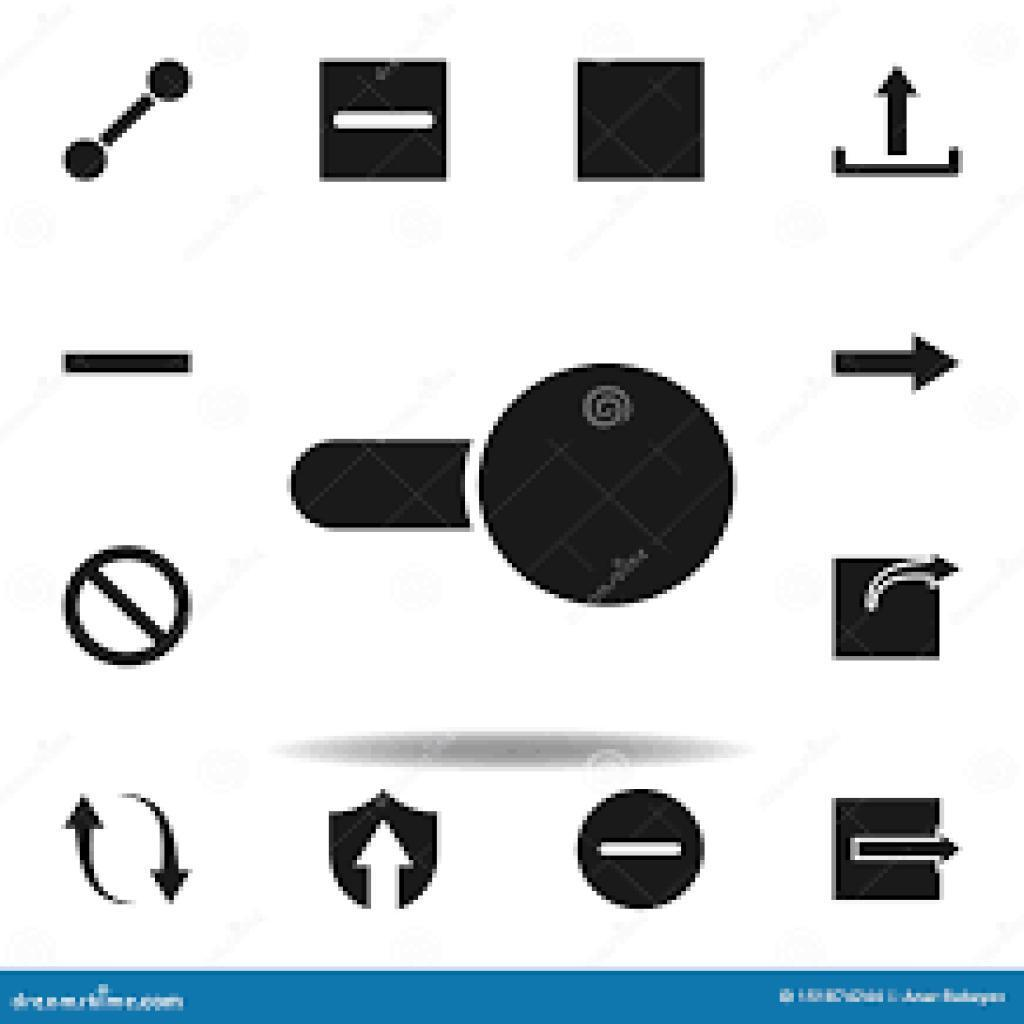checkbox: (572, 54, 711, 187), (317, 55, 452, 188)
icon: (46, 535, 215, 689), (46, 53, 204, 193), (320, 778, 466, 929), (823, 52, 972, 190), (47, 784, 202, 916), (821, 536, 958, 676), (827, 780, 967, 914), (826, 314, 970, 411), (50, 328, 210, 404)
radio: (580, 785, 707, 918)
switch: (288, 369, 738, 612)
